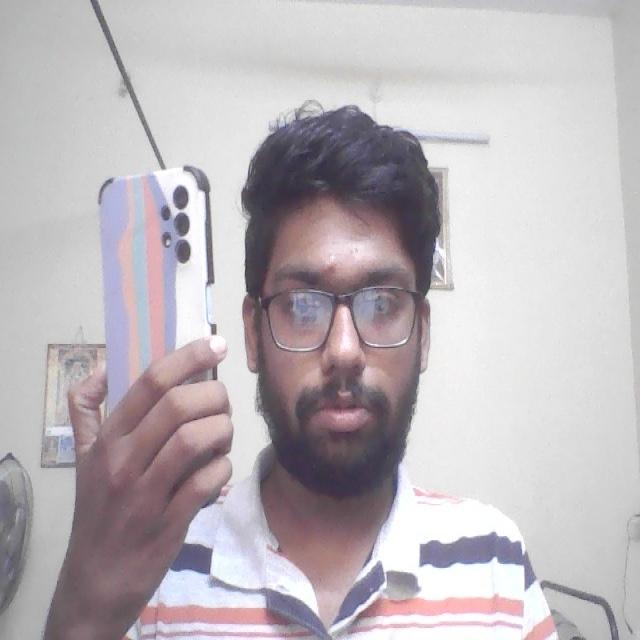Mobile: (91, 162, 221, 372)
